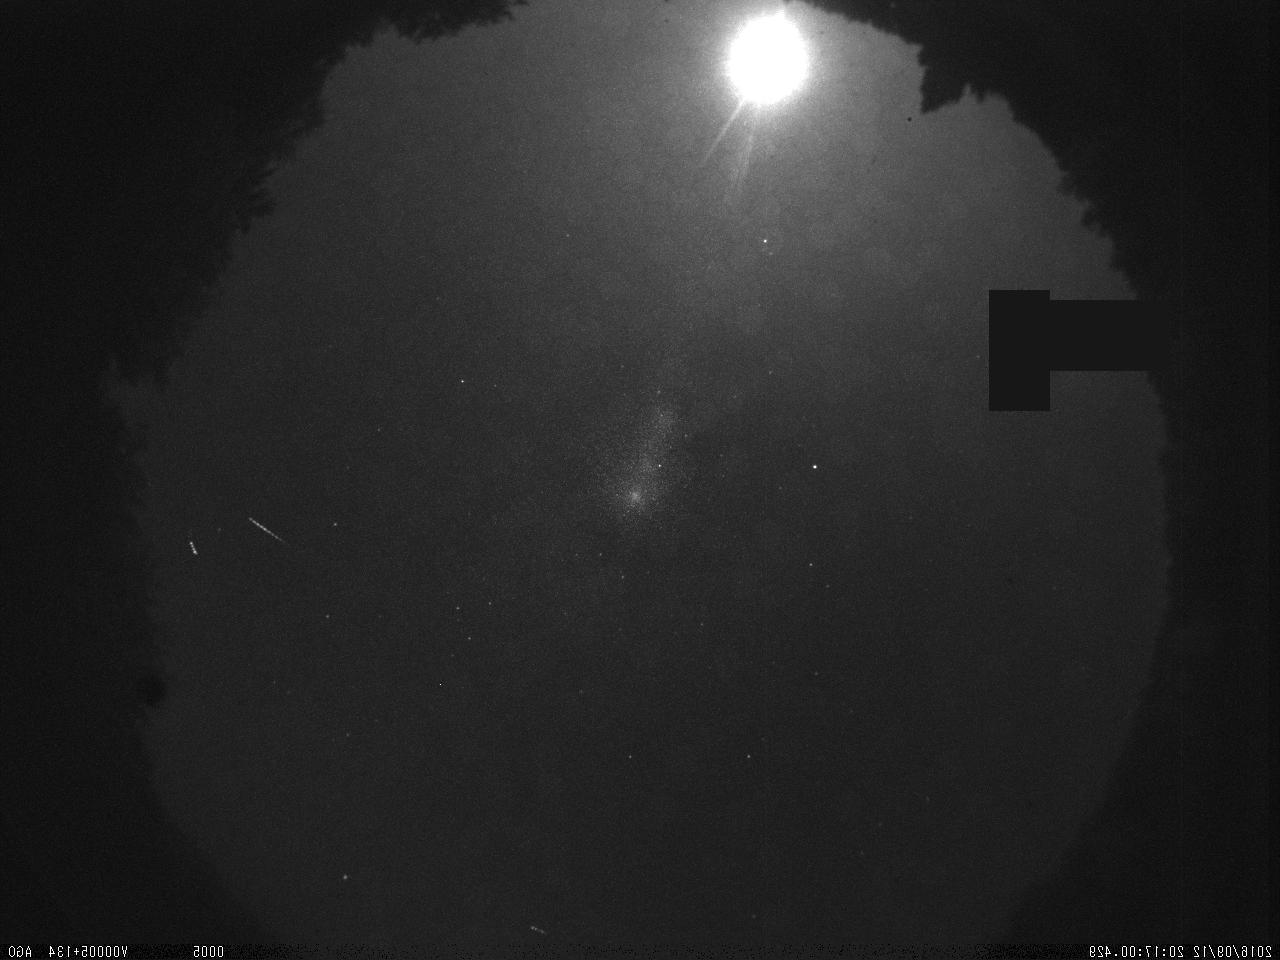meteor: (241, 511, 290, 550)
